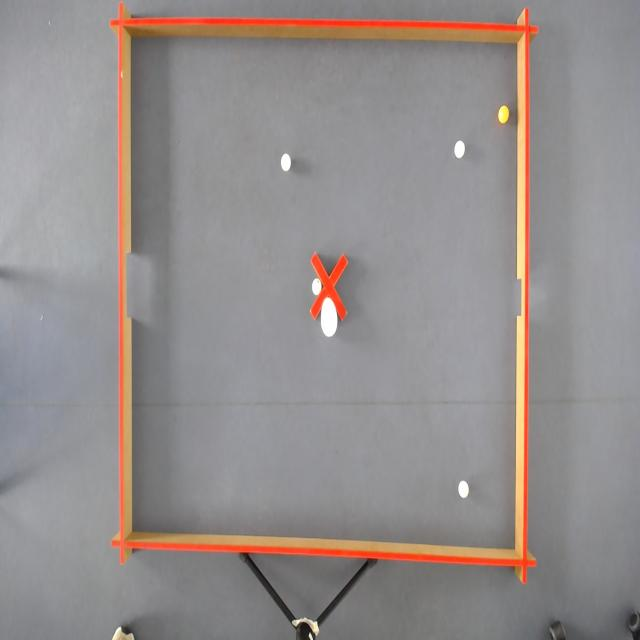cross: (308, 250, 348, 323)
egg: (320, 295, 338, 340)
orange_ball: (498, 103, 510, 126)
white_ball: (453, 139, 467, 160), (457, 478, 470, 500), (280, 150, 292, 173), (310, 275, 322, 298)
